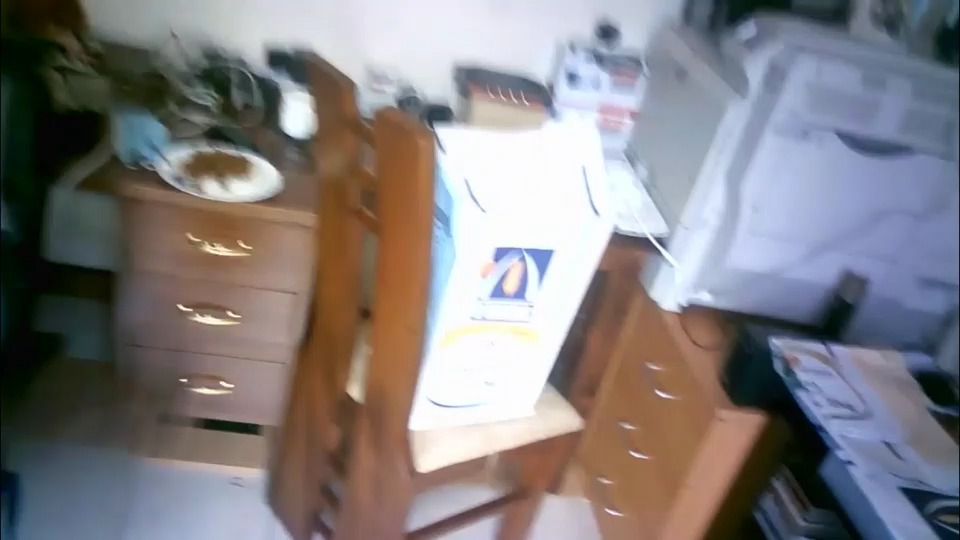wheat_flour_blue_label: (440, 131, 606, 420)
